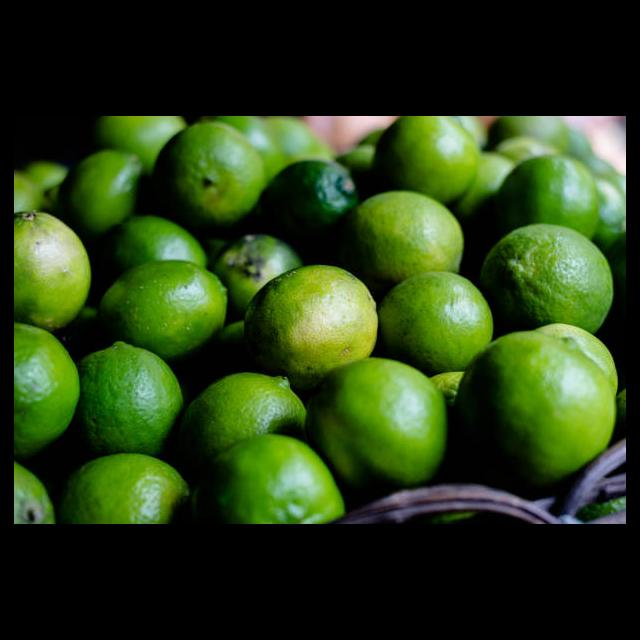lime: (479, 224, 615, 337), (150, 122, 279, 231), (14, 323, 80, 464)
